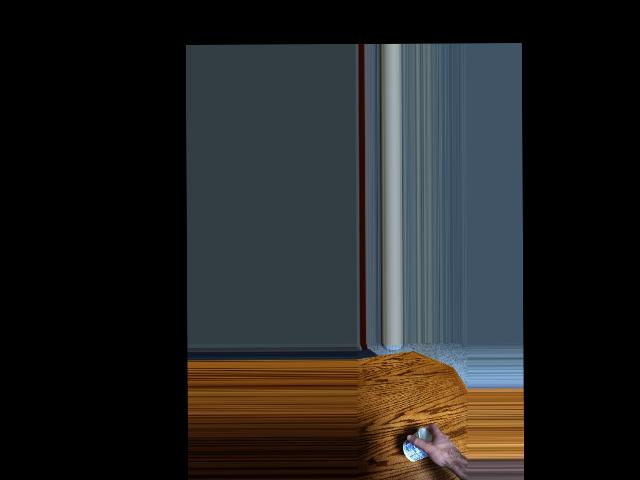cotage: (404, 427, 435, 462)
